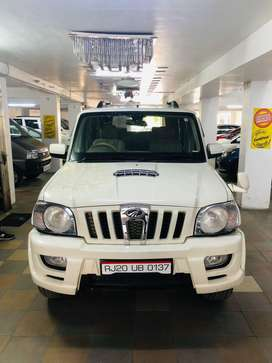RJ20UB0137: (101, 261, 171, 275)
